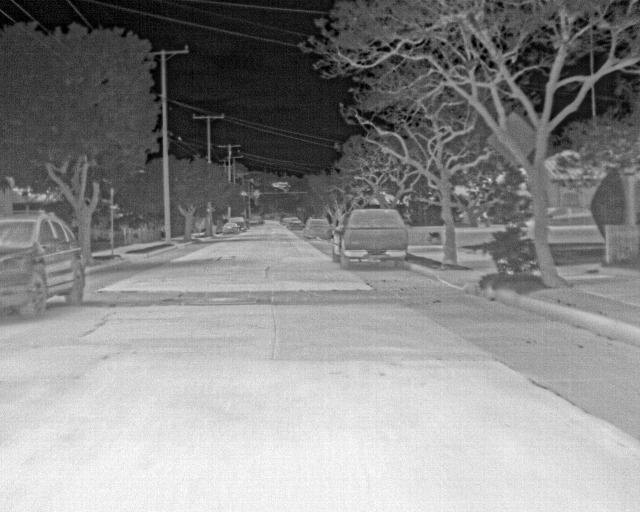car: (0, 210, 88, 318), (331, 206, 409, 270), (302, 217, 333, 243), (220, 220, 240, 235), (232, 214, 248, 232), (285, 217, 304, 231), (248, 213, 264, 226)
